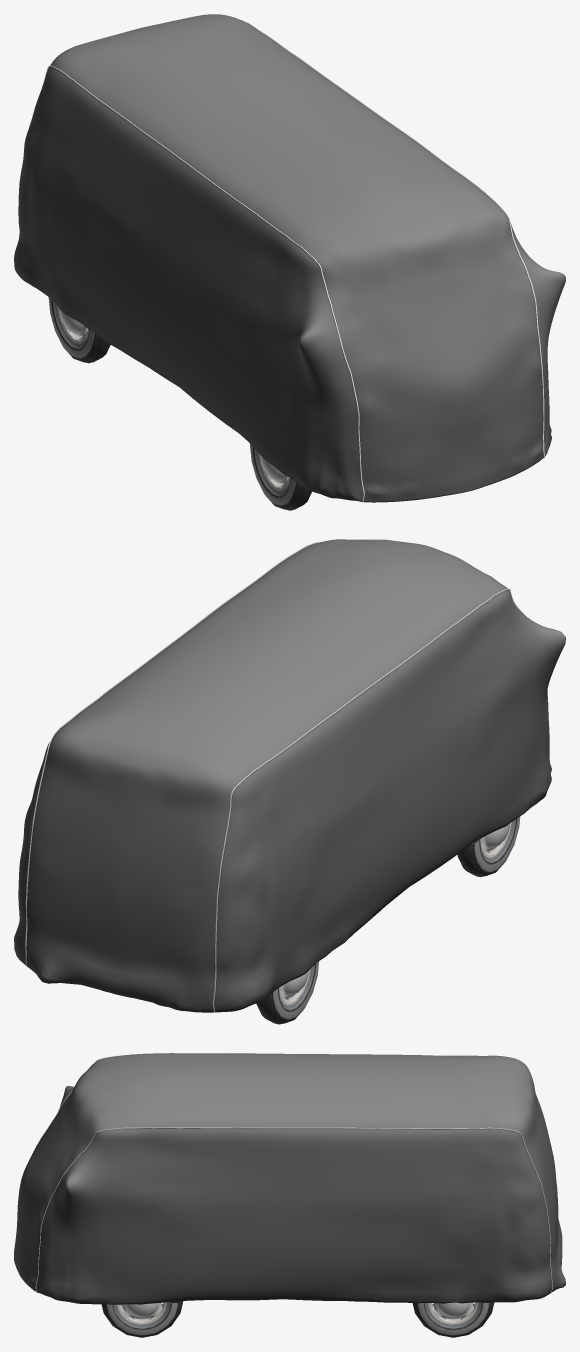
The model's file is kombi.glb.
3 renders of one model, top to bottom at view 1: azimuth 30°, elevation 25°; view 2: azimuth 150°, elevation 25°; view 3: azimuth 270°, elevation 25°, orthographic. The views are drawn at different scales.
Visible parts, largest first — view 1: CAPA, Bottom, LINHA.002; view 2: CAPA, Bottom, LINHA.002; view 3: CAPA, Bottom, LINHA.002.
Part boxes in pixels (bbox=[...]): CAPA: bbox=[14, 14, 565, 502]; Bottom: bbox=[48, 297, 311, 510]; LINHA.002: bbox=[42, 21, 545, 502]; CAPA: bbox=[14, 539, 565, 1012]; Bottom: bbox=[256, 816, 520, 1024]; LINHA.002: bbox=[25, 542, 525, 1012]; CAPA: bbox=[14, 1053, 565, 1304]; Bottom: bbox=[101, 1301, 494, 1337]; LINHA.002: bbox=[35, 1055, 552, 1292].
Bounding box in the file's own units: 2.14 × 2.22 × 4.96.
Materials: 6 (3 with a texture image).
